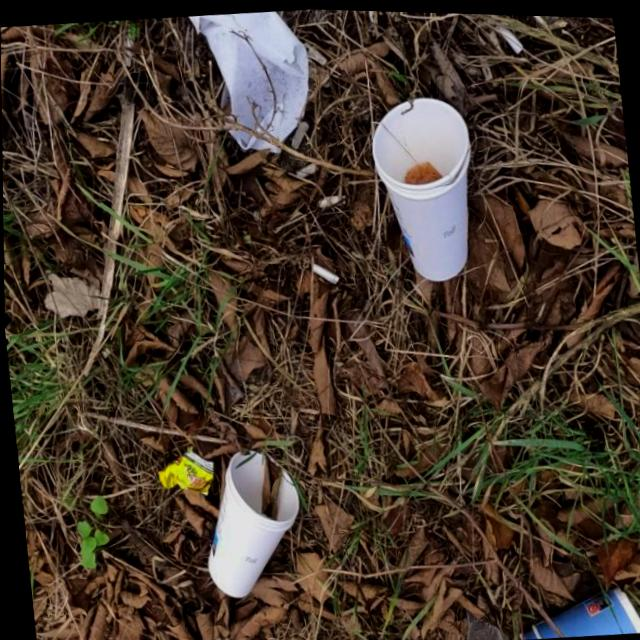Cup: (366, 88, 484, 285), (194, 441, 307, 601), (512, 574, 640, 640)
Paper: (176, 4, 318, 161)
Plastic: (153, 445, 215, 500)
